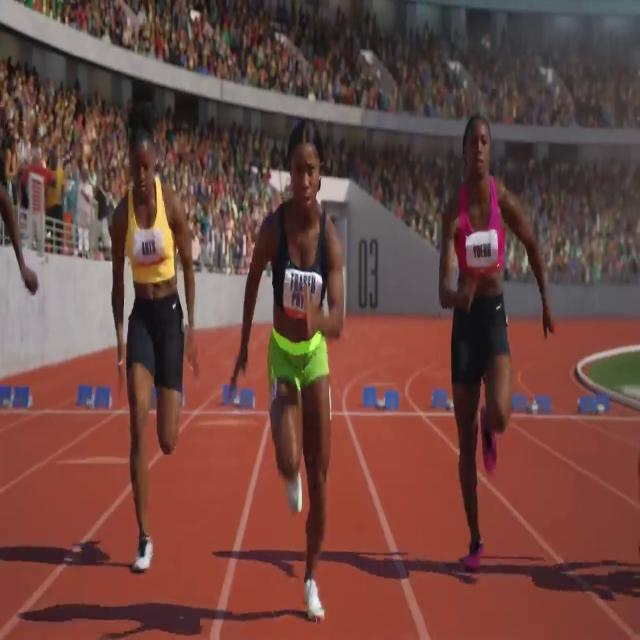running: (223, 118, 350, 617), (436, 114, 558, 576), (110, 92, 202, 578)
